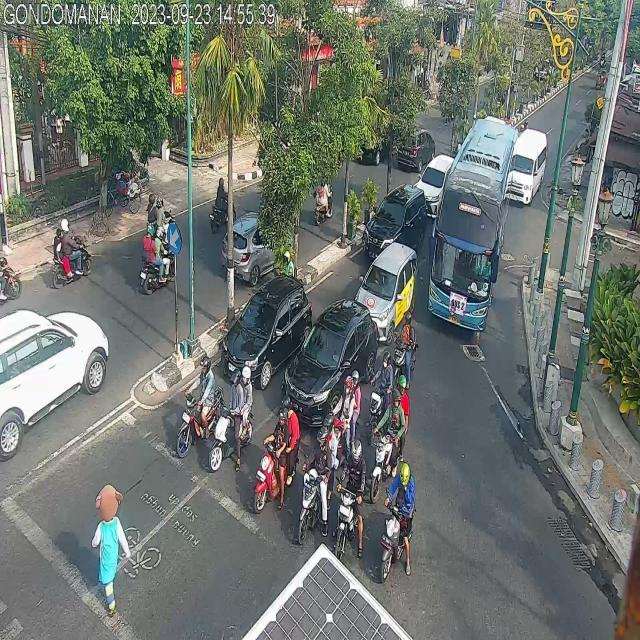bus: (428, 114, 517, 336)
car: (0, 306, 116, 461), (281, 298, 376, 415), (220, 279, 312, 391), (358, 243, 416, 349), (363, 180, 427, 275), (218, 208, 296, 278), (504, 127, 545, 206), (414, 151, 451, 220)
motorcycle: (246, 391, 296, 510), (205, 356, 252, 469), (177, 350, 225, 460), (369, 374, 408, 502), (378, 459, 416, 586), (298, 412, 334, 542), (336, 438, 369, 562), (49, 221, 92, 291), (144, 224, 178, 305), (394, 307, 416, 391), (211, 171, 233, 237), (315, 159, 335, 229)
